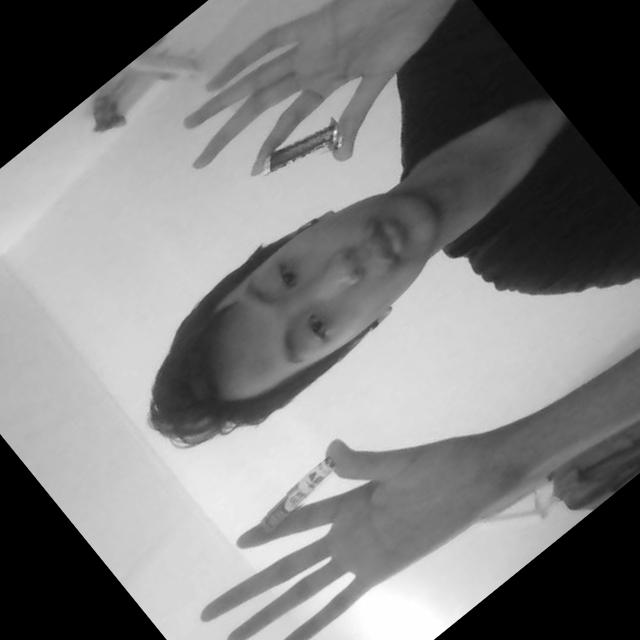Hazard: (254, 107, 352, 198), (251, 454, 344, 536)
